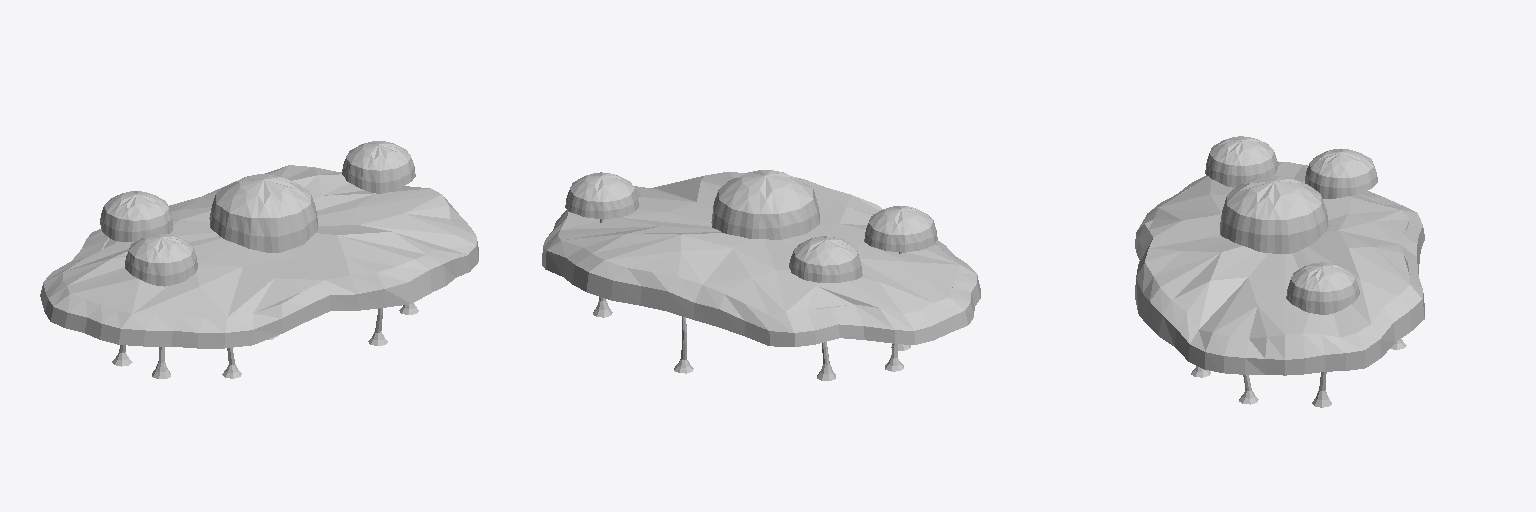
File: O_JungleWorldTree_d.obj
3 renders of one model, left to right at view 1: azimuth 30°, elevation 25°; view 2: azimuth 150°, elevation 25°; view 3: azimuth 270°, elevation 25°, orthographic.
Visible parts, largest first — view 1: Tree_Multi; view 2: Tree_Multi; view 3: Tree_Multi.
Boxes of the visible parts, box(x1,y1,x2,y2) form: Tree_Multi: box(40, 141, 478, 378); Tree_Multi: box(542, 170, 980, 380); Tree_Multi: box(1135, 136, 1424, 407).
Bounding box in the file's own units: 6621 × 2413 × 4101.